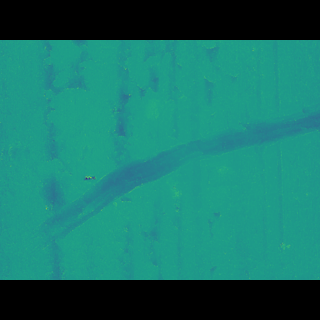Loch: (12, 111, 320, 237)
